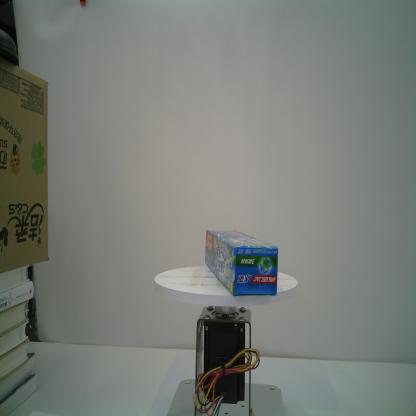Personal Hygiene: (205, 229, 278, 298)
